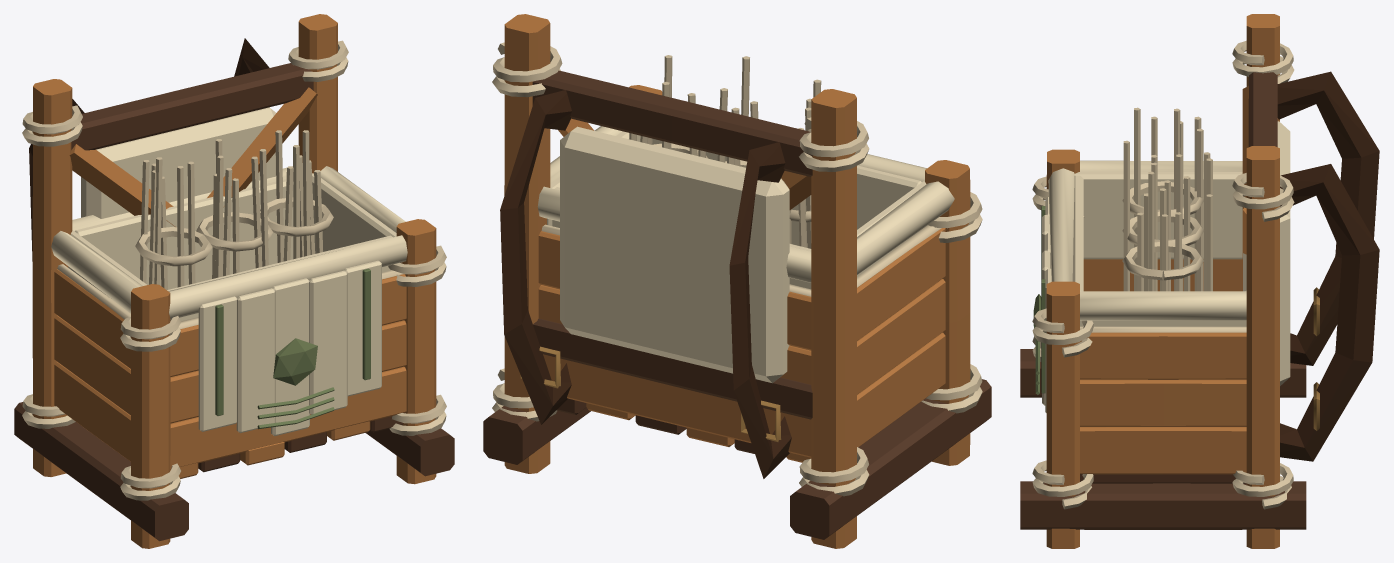
Rendered from prop_trade_pack_flax_a.glb.
3 views of the same model, side by side, from view 1: azimuth 30°, elevation 25°; view 2: azimuth 150°, elevation 25°; view 3: azimuth 270°, elevation 25° (orthographic). The views are drawn at different scales.
Visible parts, largest first — view 1: prop_trade_pack_flax_a_LOD0; view 2: prop_trade_pack_flax_a_LOD0; view 3: prop_trade_pack_flax_a_LOD0.
Part boxes in pixels (<box>): prop_trade_pack_flax_a_LOD0: <box>14,14,454,548</box>; prop_trade_pack_flax_a_LOD0: <box>483,14,991,548</box>; prop_trade_pack_flax_a_LOD0: <box>1020,14,1379,548</box>.
Size of what is drawn, in the model's own units: 0.8384 by 0.96 by 0.8041.
